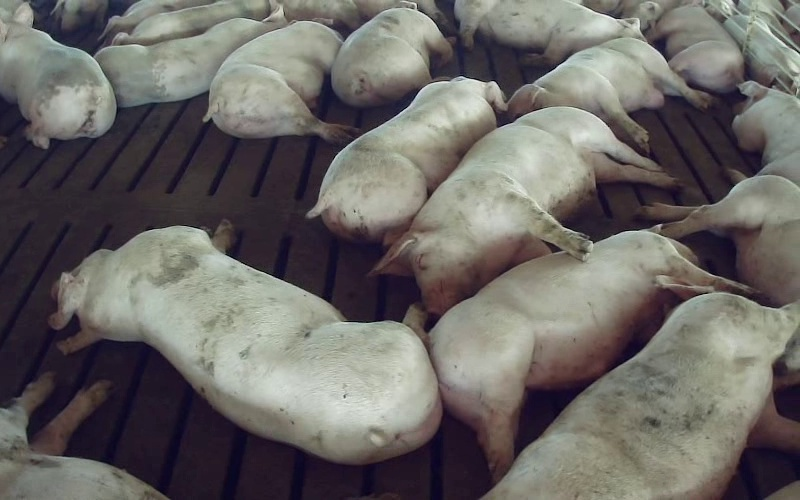pig: (49, 220, 441, 464), (430, 230, 750, 480), (483, 293, 799, 499), (307, 77, 505, 244), (508, 38, 713, 152), (637, 175, 799, 305), (204, 21, 358, 143), (95, 9, 286, 106), (454, 0, 642, 66), (331, 8, 452, 106), (647, 6, 743, 92), (732, 81, 799, 185)
